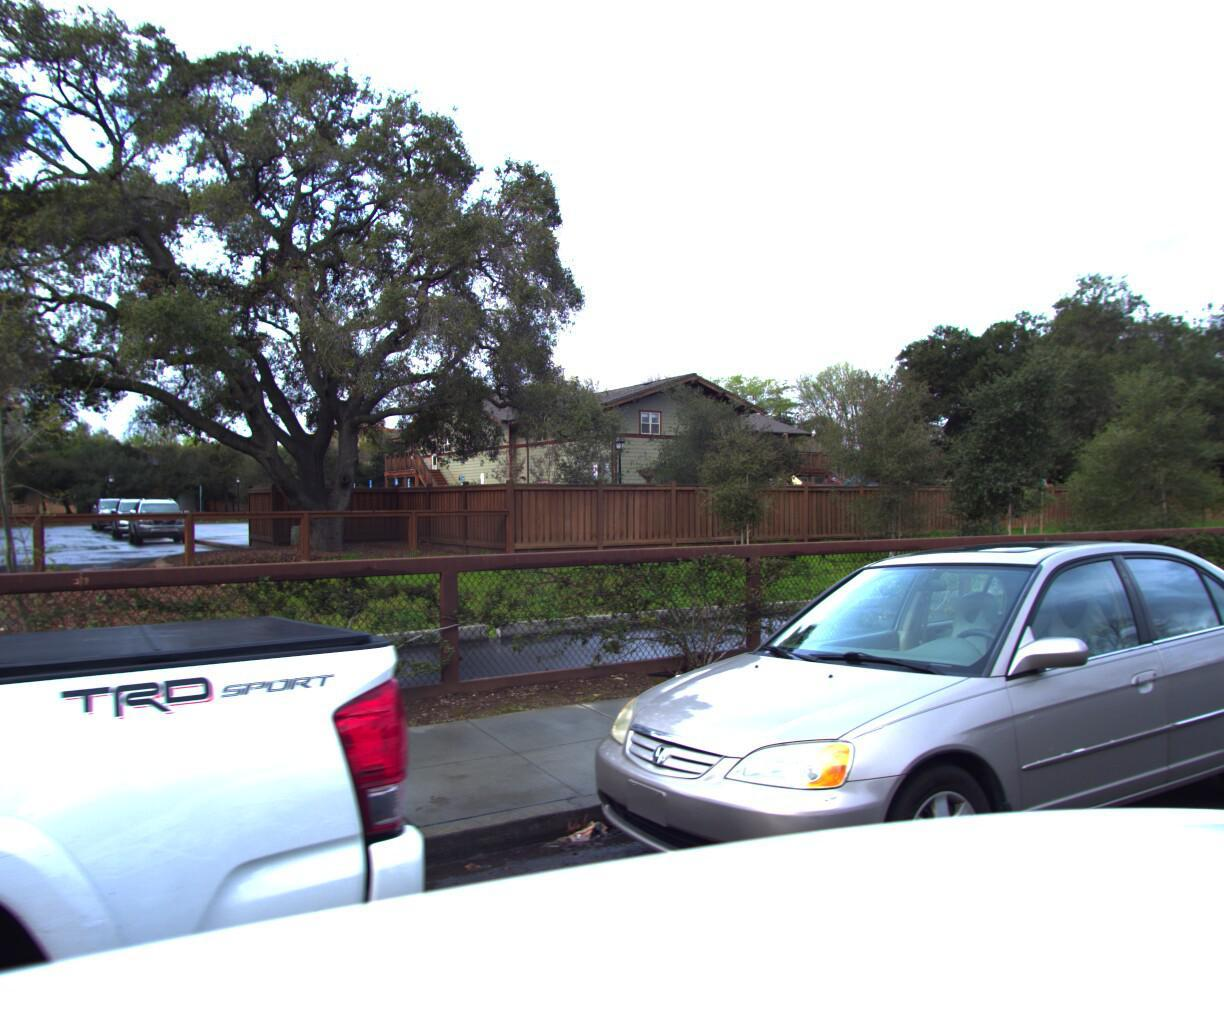car: (538, 527, 1224, 1024), (1171, 513, 1224, 762)
